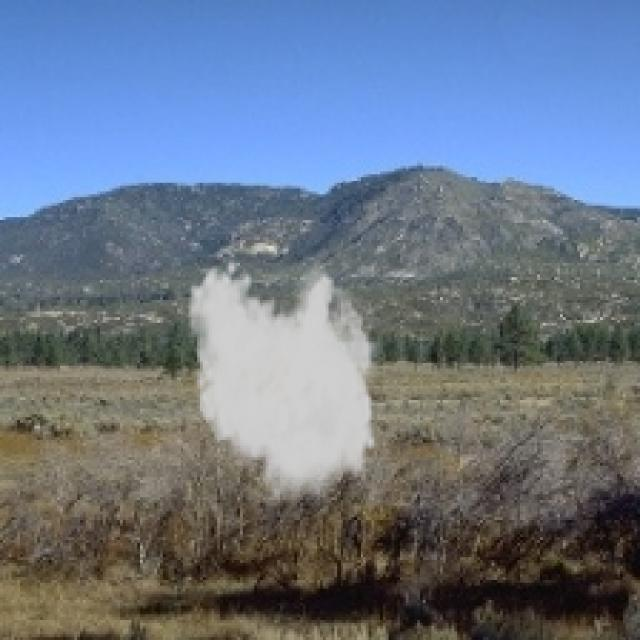Smoke: (185, 257, 388, 512)
